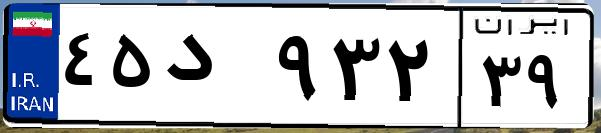2: (385, 28, 445, 110)
3: (330, 28, 385, 110), (475, 38, 525, 113)
4: (57, 26, 110, 100)
5: (110, 28, 158, 98)
9: (270, 28, 330, 110), (525, 38, 570, 115)
د: (158, 20, 270, 120)
